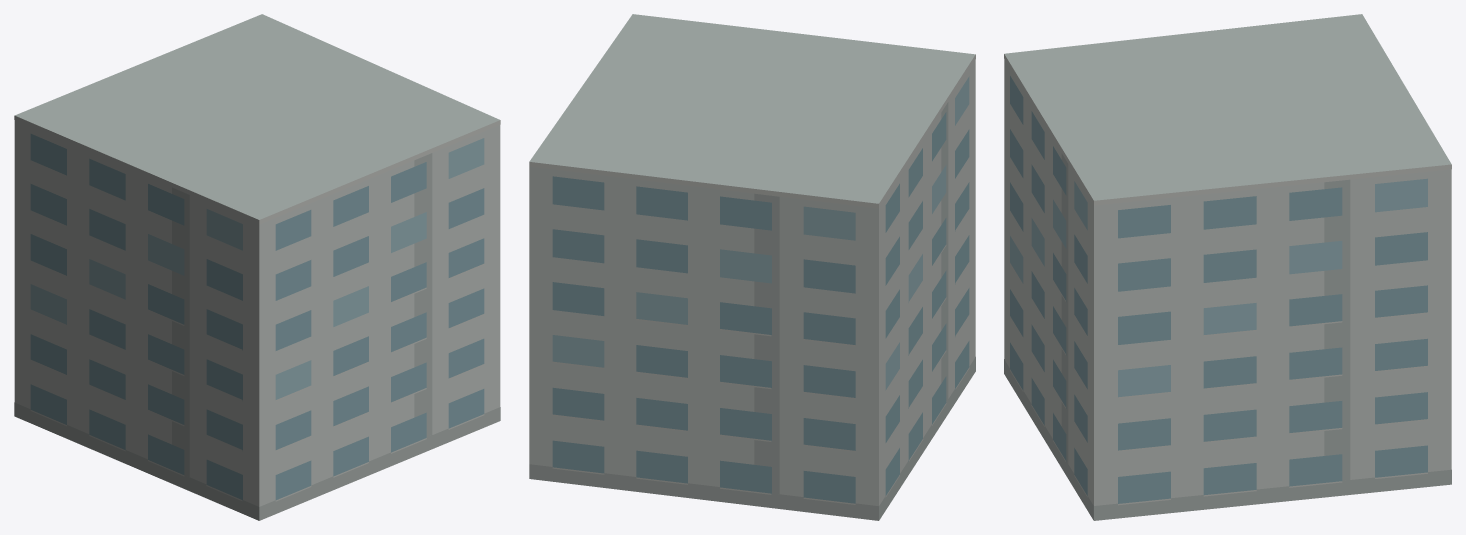
Rendered from survey-upis-32498299.glb.
3 renders of one model, left to right at view 1: azimuth 30°, elevation 25°; view 2: azimuth 150°, elevation 25°; view 3: azimuth 270°, elevation 25°, orthographic. The views are drawn at different scales.
Visible parts, largest first — view 1: survey-upis-32498299.tmp; view 2: survey-upis-32498299.tmp; view 3: survey-upis-32498299.tmp.
Boxes of the visible parts, x1=… form: survey-upis-32498299.tmp: x1=14, y1=14, x2=500, y2=520; survey-upis-32498299.tmp: x1=529, y1=14, x2=975, y2=520; survey-upis-32498299.tmp: x1=1004, y1=14, x2=1451, y2=520.
Bounding box in the file's own units: 19.86 × 15.86 × 20.11.
